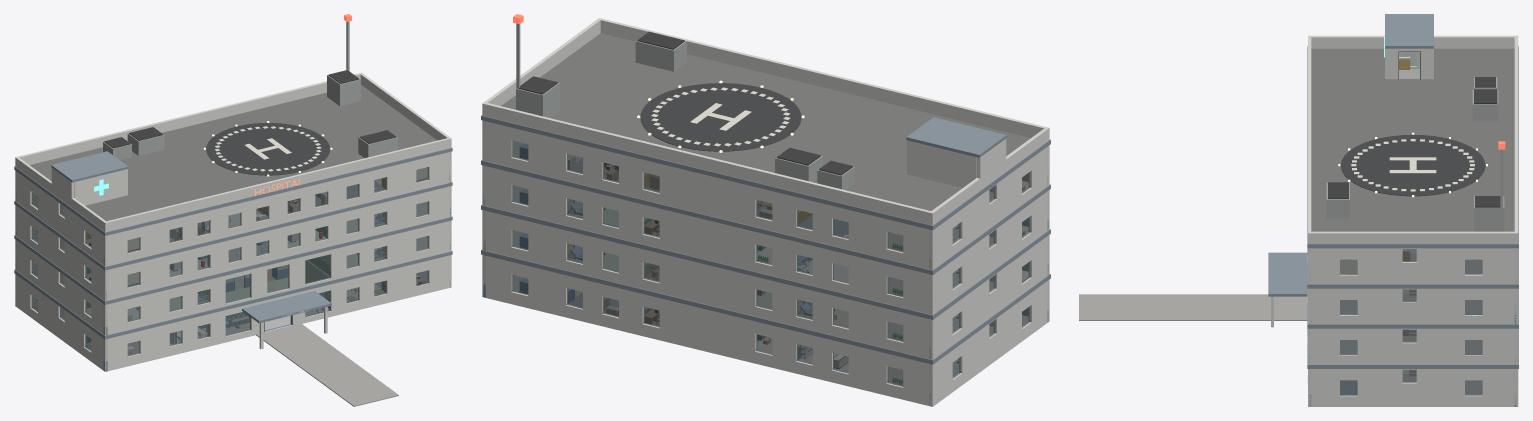
The model's file is alt_hospital.glb.
The picture shows the model from 3 angles, left to right: view 1: azimuth 30°, elevation 25°; view 2: azimuth 150°, elevation 25°; view 3: azimuth 270°, elevation 25°; orthographic projection. The views are drawn at different scales.
Visible parts, largest first — view 1: Exterior, RoofFloor, EntranceWalk, Decor_L1, Decor_L3, Decor_L0, Decor_L2, Interior_L0, GroundFloor_L0, Interior_L3, Interior_L1, Interior_L2 (+3 smaller); view 2: Exterior, RoofFloor, Decor_L3, Decor_L0, Decor_L1, Decor_L2, Interior_L0, Interior_L3, Interior_L1, Interior_L2, GroundFloor_L1, GroundFloor_L2 (+2 smaller); view 3: Exterior, RoofFloor, EntranceWalk, Decor_L3, Decor_L2, Decor_L0, Decor_L1, GroundFloor_L0, GroundFloor_L2, GroundFloor_L1, GroundFloor_L3, Interior_L3.
Boxes of the visible parts, <box> form: Exterior: <box>14,72,452,371</box>; RoofFloor: <box>30,14,436,221</box>; EntranceWalk: <box>256,323,398,406</box>; Decor_L1: <box>30,236,429,323</box>; Decor_L3: <box>30,121,429,254</box>; Decor_L0: <box>30,266,429,357</box>; Decor_L2: <box>30,201,429,288</box>; Interior_L0: <box>15,255,450,371</box>; GroundFloor_L0: <box>36,269,427,355</box>; Interior_L3: <box>15,152,450,265</box>; Interior_L1: <box>15,221,450,335</box>; Interior_L2: <box>15,186,450,300</box>; Exterior: <box>481,18,1050,406</box>; RoofFloor: <box>501,14,1030,210</box>; Decor_L3: <box>511,80,1032,253</box>; Decor_L0: <box>511,275,1032,388</box>; Decor_L1: <box>511,230,1032,343</box>; Decor_L2: <box>511,185,1031,298</box>; Interior_L0: <box>483,255,1048,405</box>; Interior_L3: <box>483,121,1048,269</box>; Interior_L1: <box>483,211,1048,359</box>; Interior_L2: <box>483,185,1048,306</box>; GroundFloor_L1: <box>513,231,1028,337</box>; GroundFloor_L2: <box>513,186,1028,292</box>; Exterior: <box>1268,14,1518,406</box>; RoofFloor: <box>1311,48,1514,231</box>; EntranceWalk: <box>1079,294,1307,320</box>; Decor_L3: <box>1307,51,1487,275</box>; Decor_L2: <box>1307,289,1482,316</box>; Decor_L0: <box>1307,369,1482,396</box>; Decor_L1: <box>1307,329,1482,356</box>; GroundFloor_L0: <box>1340,370,1482,394</box>; GroundFloor_L2: <box>1340,289,1482,313</box>; GroundFloor_L1: <box>1340,330,1482,353</box>; GroundFloor_L3: <box>1340,69,1482,273</box>; Interior_L3: <box>1309,52,1516,283</box>.
Size of the model in its own units: 40.12 by 23.91 by 37.66.
